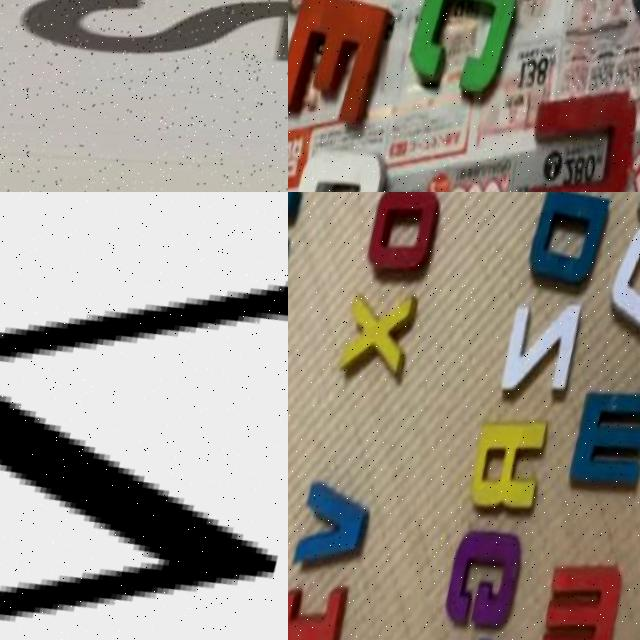2: (0, 0, 288, 116)
C: (405, 0, 525, 117)
D: (525, 192, 614, 301)
E: (288, 0, 394, 137)
G: (445, 522, 536, 640)
I: (288, 576, 356, 640)
M: (567, 385, 640, 505)
N: (0, 192, 288, 640)
O: (362, 192, 445, 291)
Q: (288, 143, 412, 192), (605, 222, 640, 348)
R: (469, 422, 554, 529)
U: (514, 91, 640, 192)
V: (296, 479, 381, 586)
W: (537, 556, 634, 640)
X: (338, 286, 422, 391)
Z: (502, 301, 590, 408)
